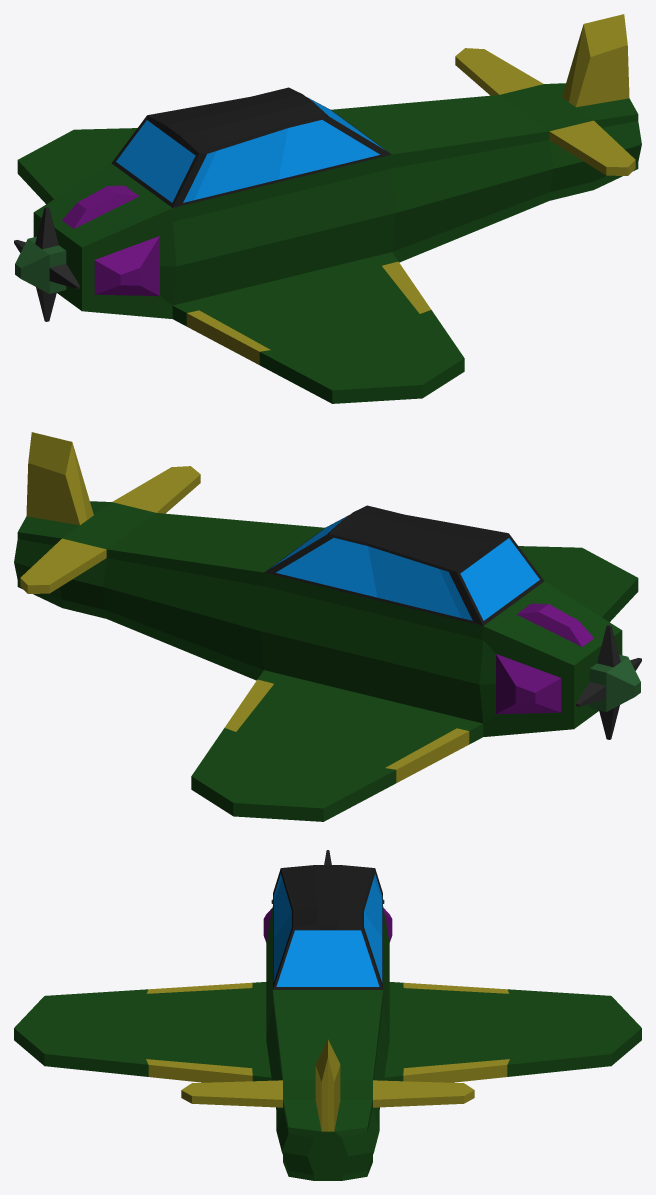
File: ZeroElectric.fbx
3 views of the same model, one above another, from view 1: azimuth 30°, elevation 25°; view 2: azimuth 150°, elevation 25°; view 3: azimuth 270°, elevation 25° (orthographic). The views are drawn at different scales.
Visible parts, largest first — view 1: Cube, Cube.001; view 2: Cube, Cube.001; view 3: Cube.
Boxes of the visible parts, <box> form: Cube: <box>17,14,641,403</box>; Cube.001: <box>14,207,79,321</box>; Cube: <box>14,432,638,821</box>; Cube.001: <box>576,625,641,739</box>; Cube: <box>14,865,641,1180</box>.
Bounding box in the file's own units: 1146 × 300 × 1139.
